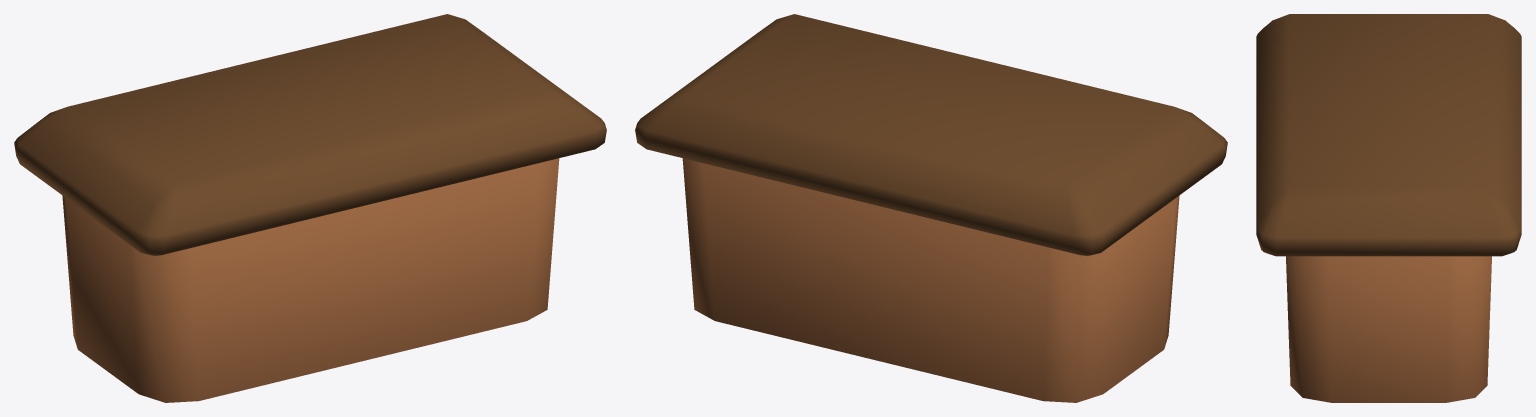
The model's file is Prop_Pouffes_02.fbx.
The picture shows the model from 3 angles, left to right: view 1: azimuth 30°, elevation 25°; view 2: azimuth 150°, elevation 25°; view 3: azimuth 270°, elevation 25°; orthographic projection. The views are drawn at different scales.
Parts seen in each view (by area): view 1: Prop_Pouffes_02; view 2: Prop_Pouffes_02; view 3: Prop_Pouffes_02.
Part boxes in pixels (bbox=[...]): Prop_Pouffes_02: bbox=[14, 14, 606, 402]; Prop_Pouffes_02: bbox=[635, 14, 1227, 402]; Prop_Pouffes_02: bbox=[1256, 14, 1521, 402].
Size of the model in its own units: 89.94 by 41.01 by 47.12.
